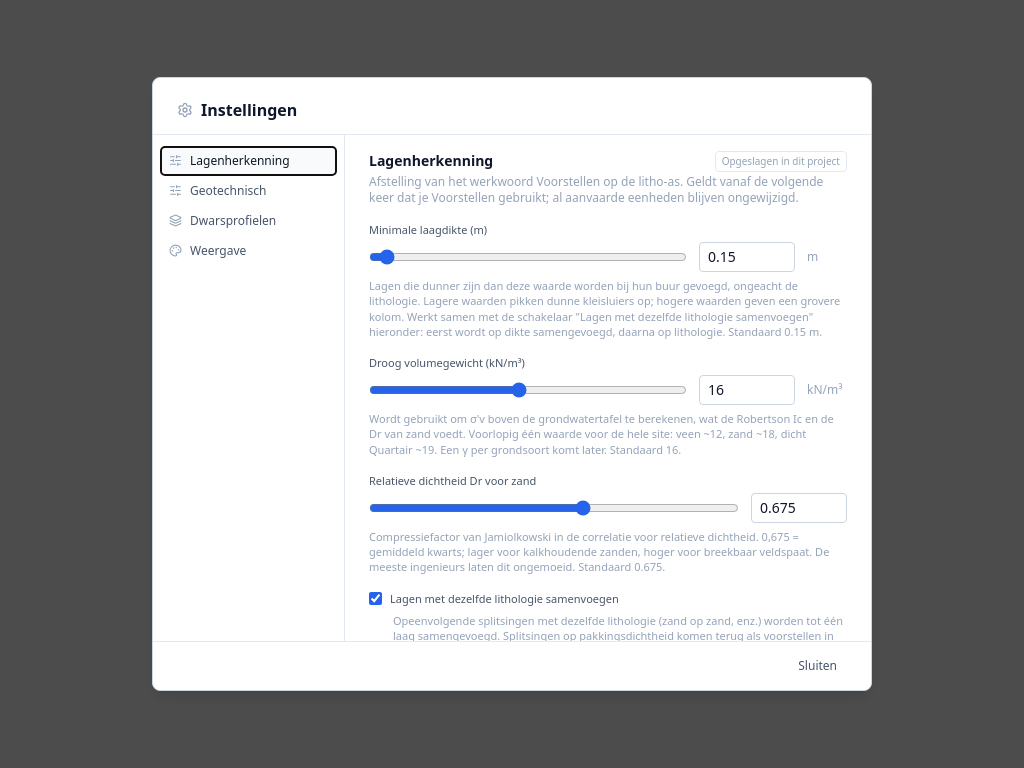
Test case: Check for updates at start › SU5 - Dutch: the owner wording for the label and the hint
Click the tab with test id "settings-section-appearance" at (248, 251), box [161, 237, 336, 265]
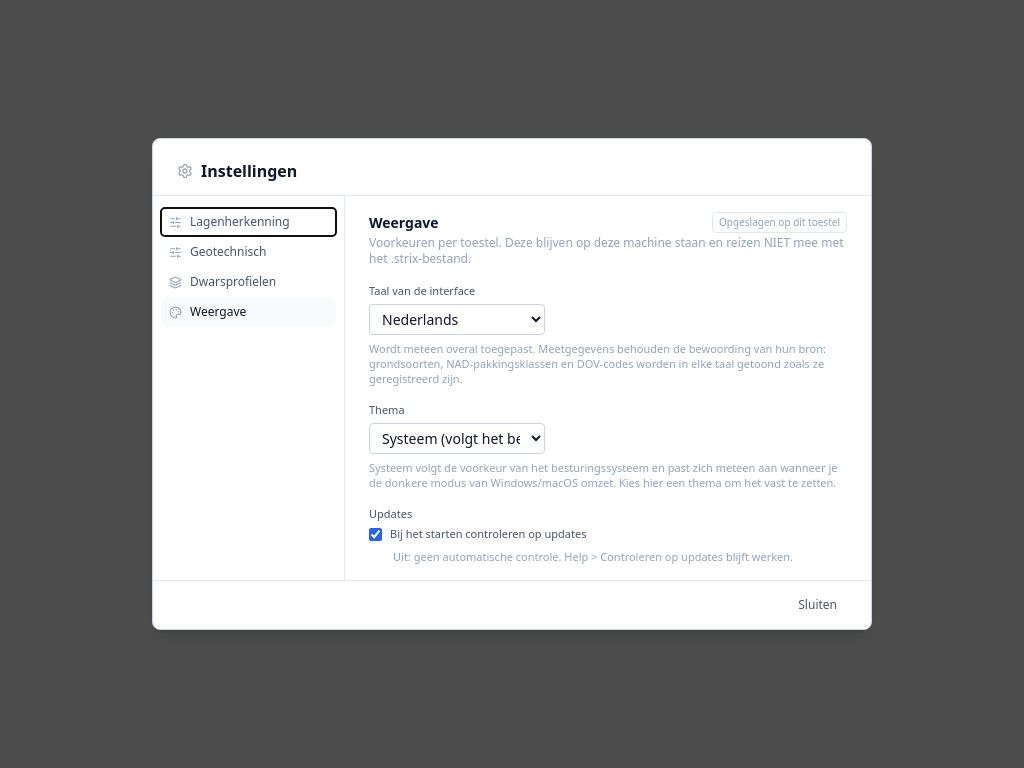
Result: the text "Bij het starten controleren op updates" is shown at [390, 526, 586, 543]
Result: the text "Uit: geen automatische controle. Help > Controleren op updates blijft werken." is shown at [393, 549, 847, 564]
